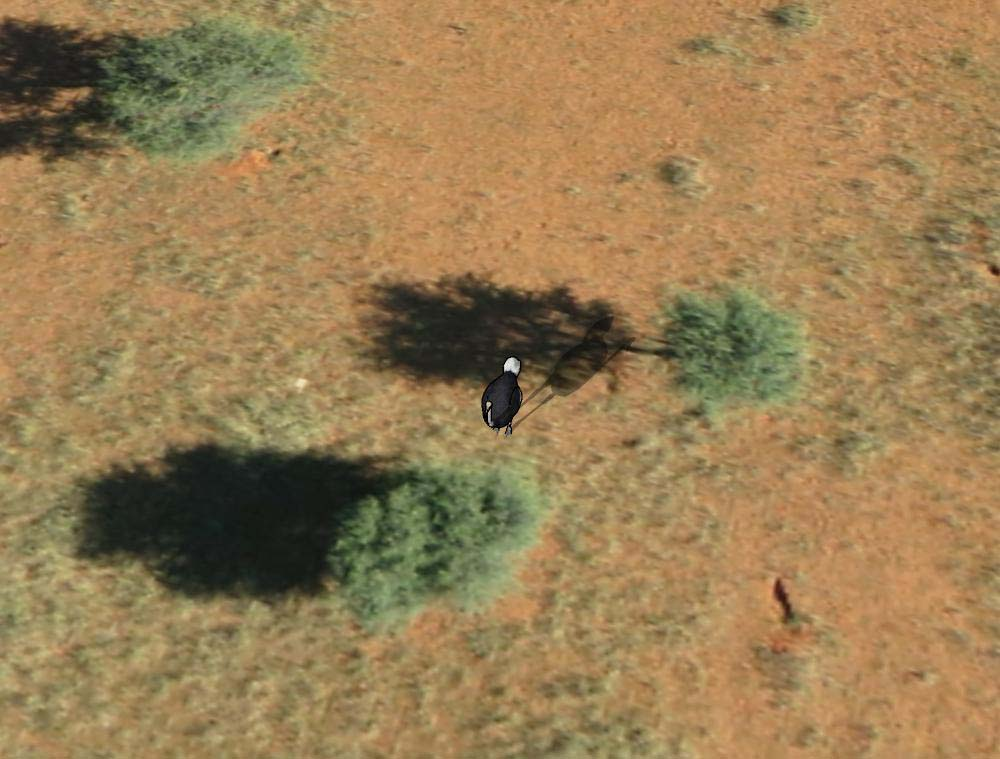ostrich: (476, 357, 527, 434)
